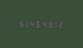eight: (47, 20, 52, 28)
four: (41, 19, 46, 28), (29, 19, 34, 27)
one: (23, 19, 28, 27), (53, 20, 58, 28)
six: (17, 19, 22, 27), (35, 19, 40, 27)
two: (59, 20, 64, 28)
